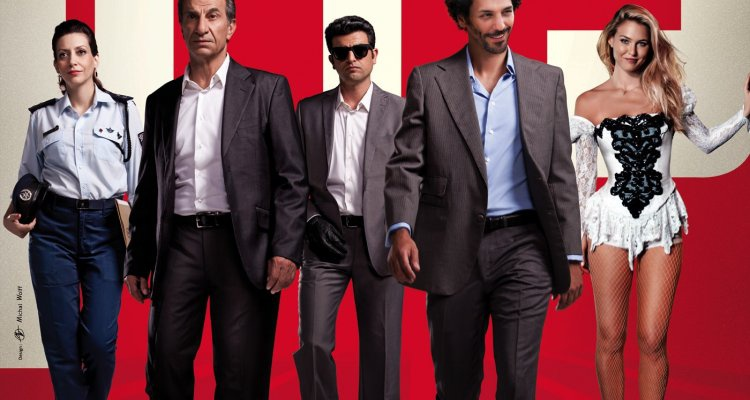bad: (325, 38, 377, 90), (175, 0, 227, 49), (472, 2, 516, 46), (612, 26, 655, 70), (50, 41, 93, 84)
